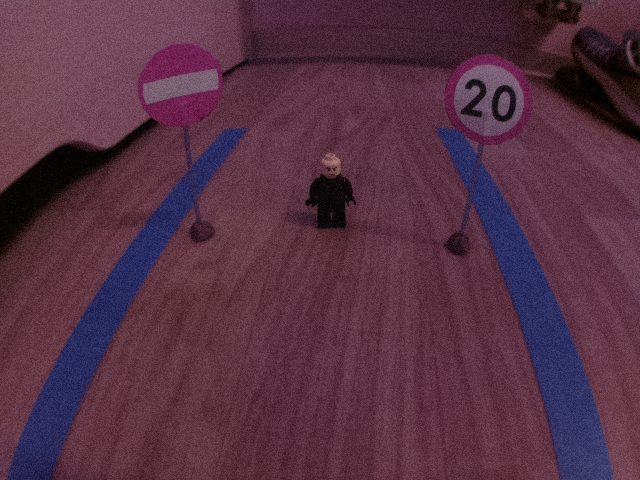LEGO_person: (302, 150, 359, 236)
ogr_20: (442, 52, 536, 146)
zakaz: (135, 41, 226, 131)
